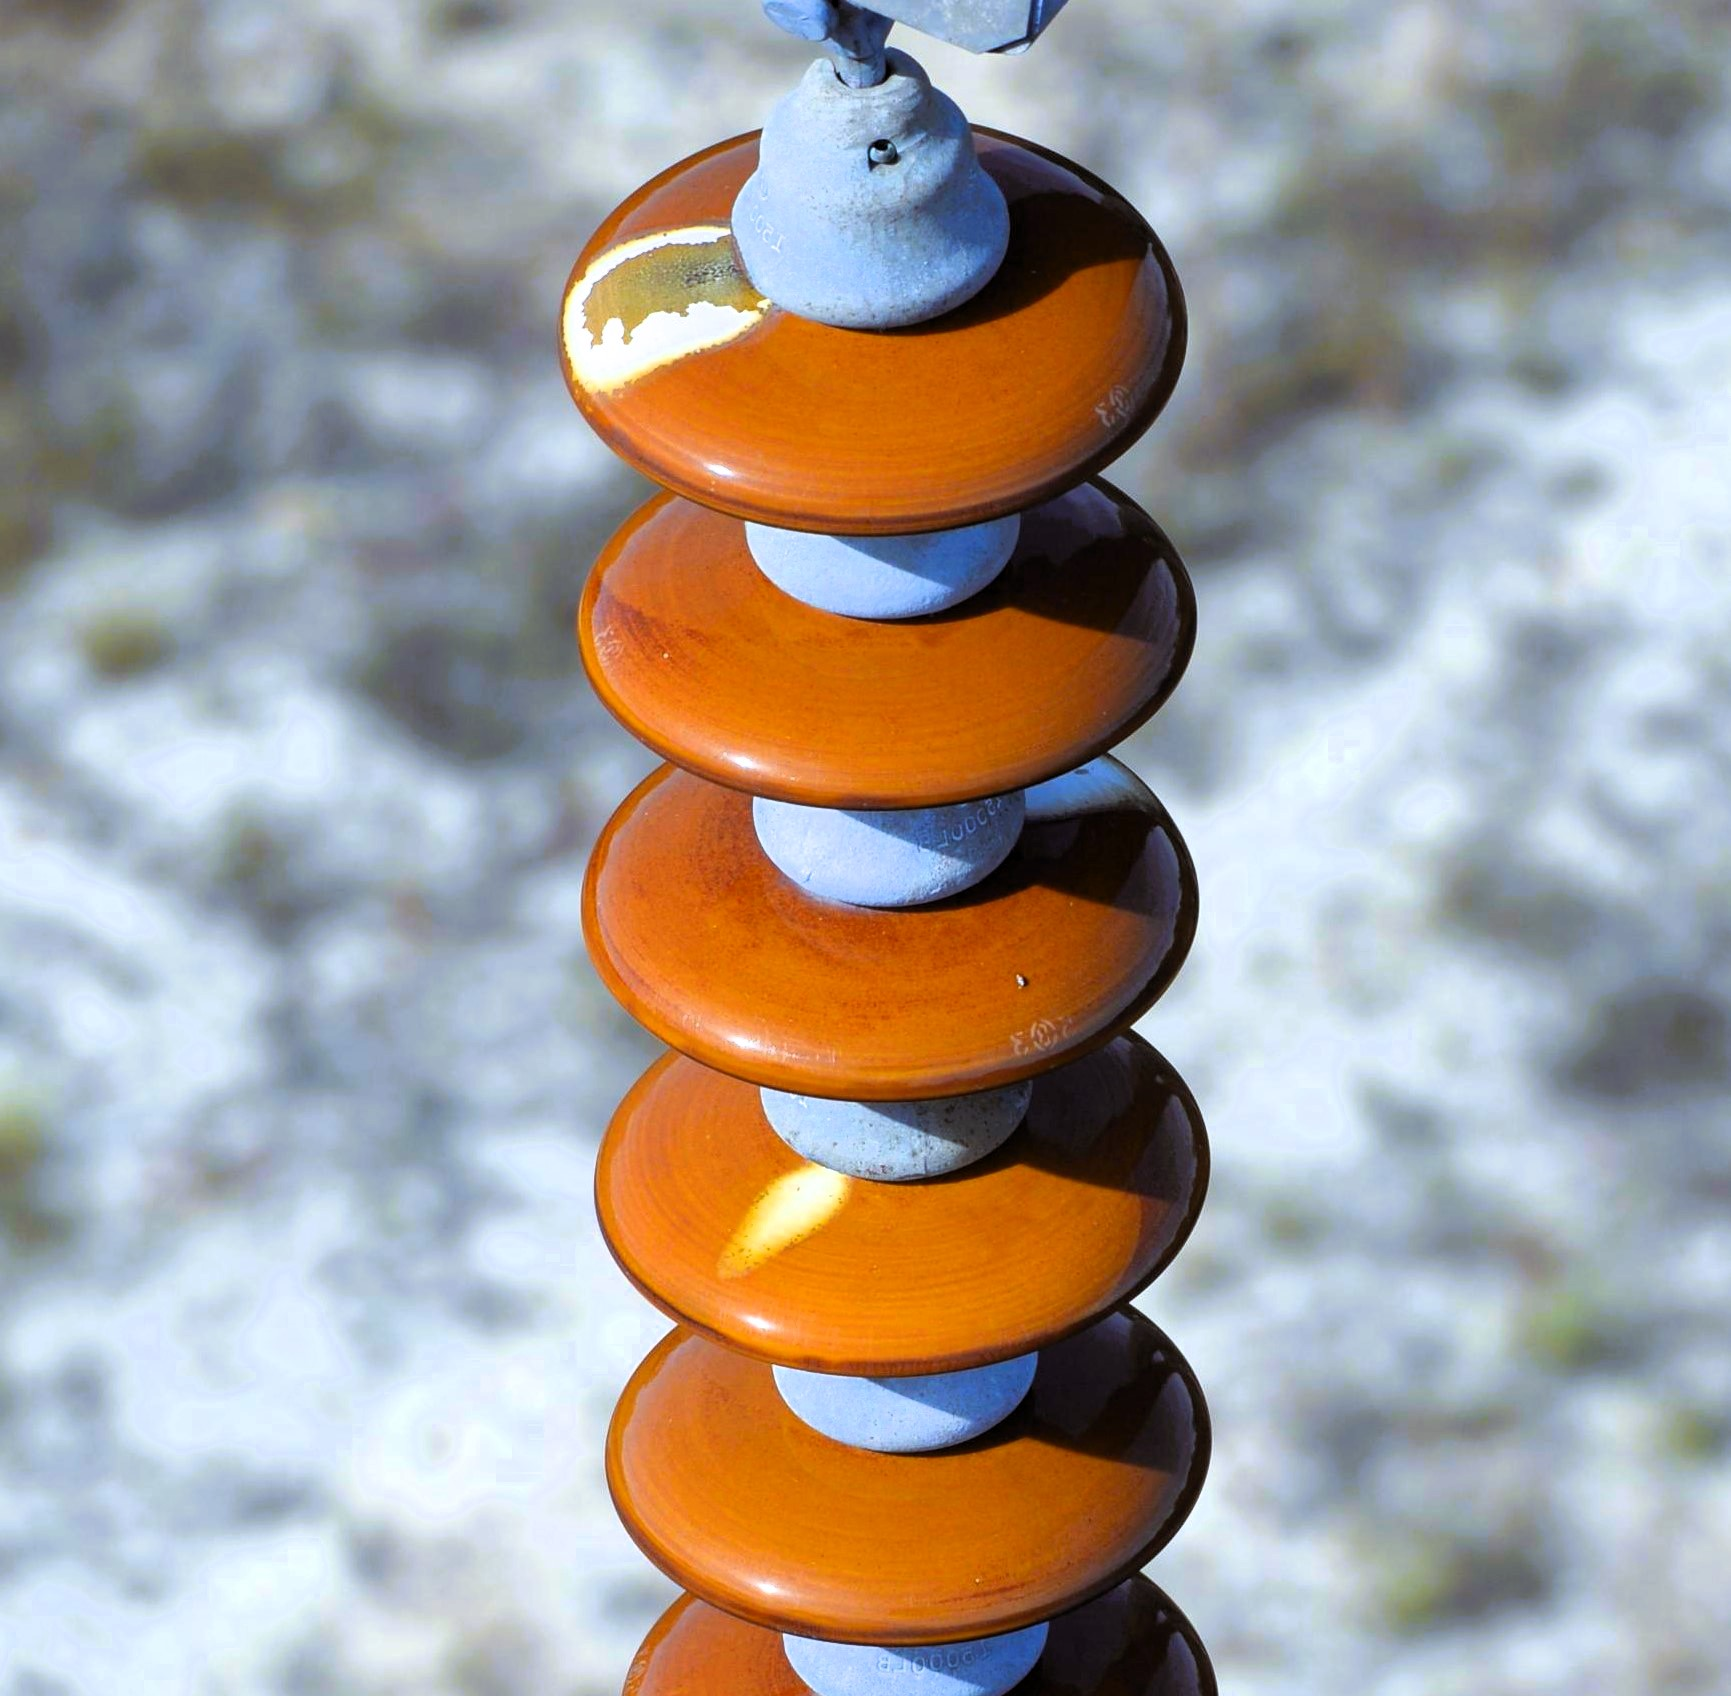Insulator flashover: (539, 99, 1208, 544), (585, 1002, 1230, 1382)
